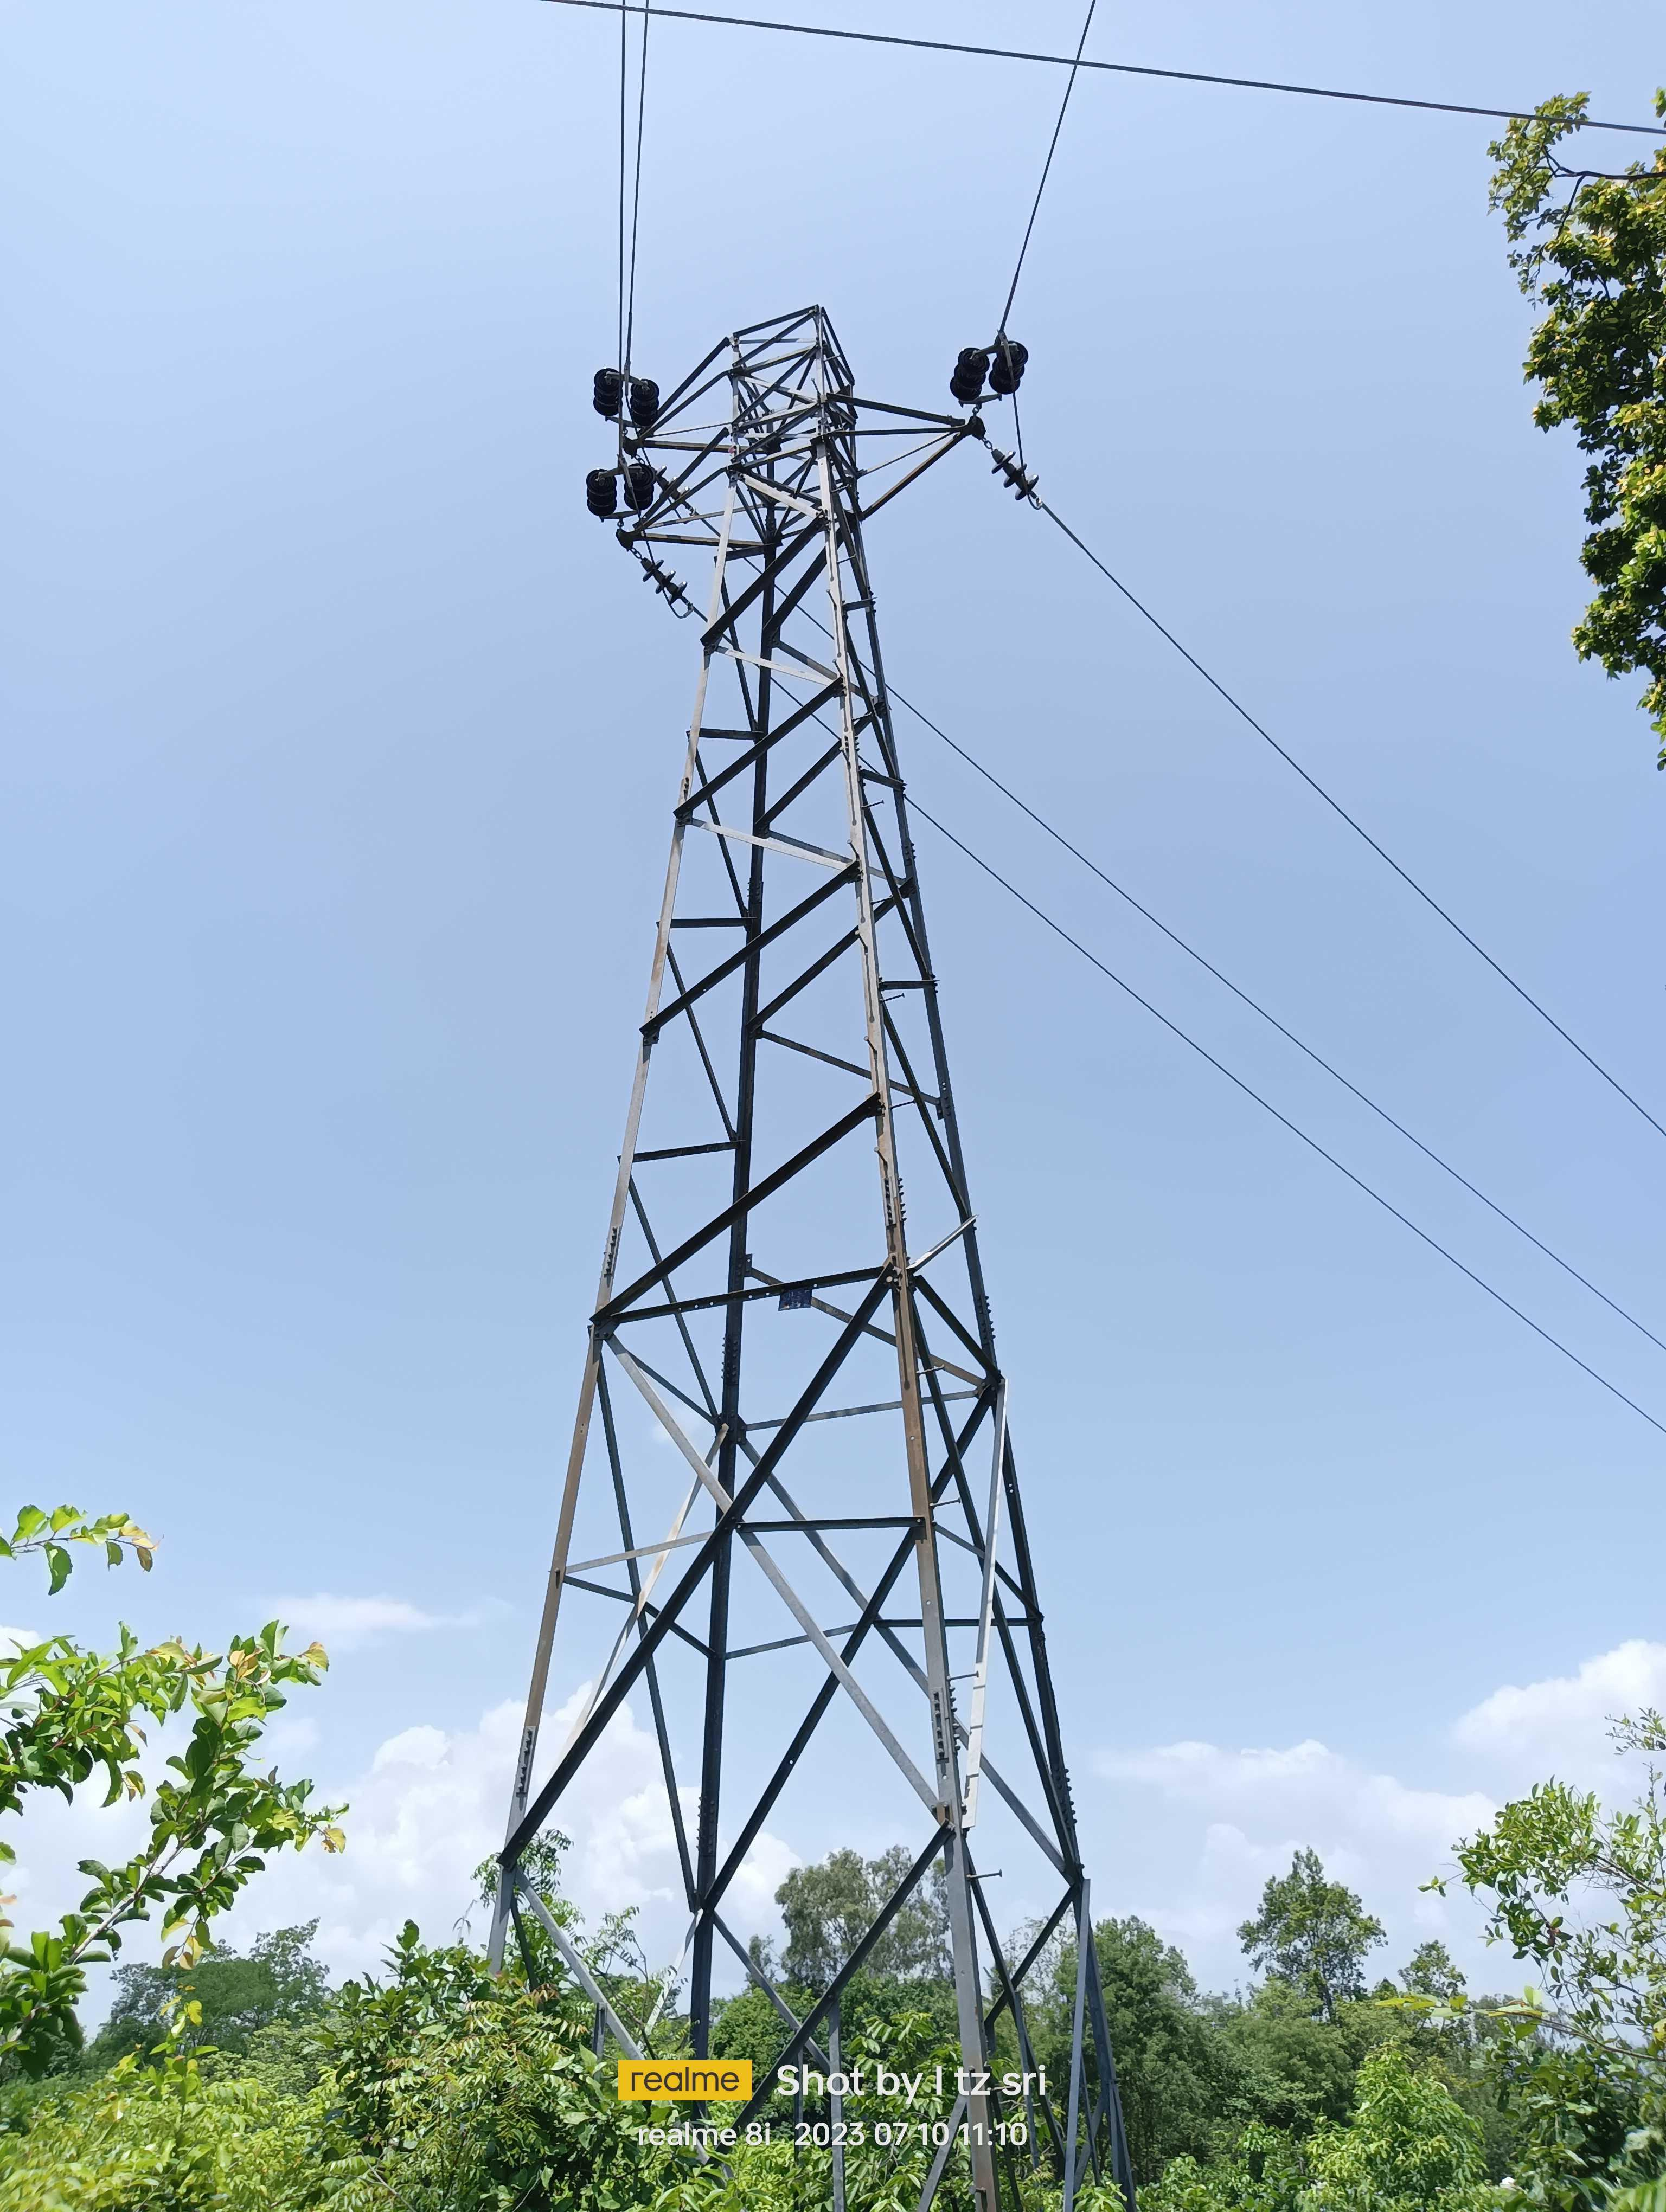GSM Antenna: (476, 293, 1090, 1831)
